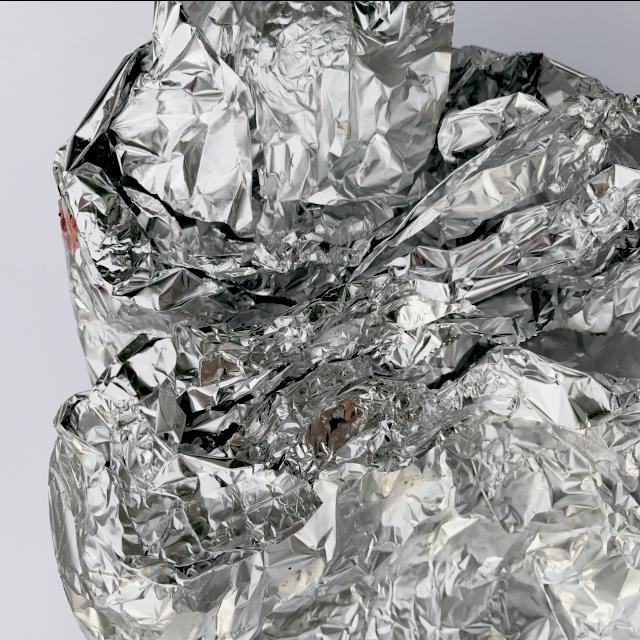Metal: (28, 7, 640, 640)
